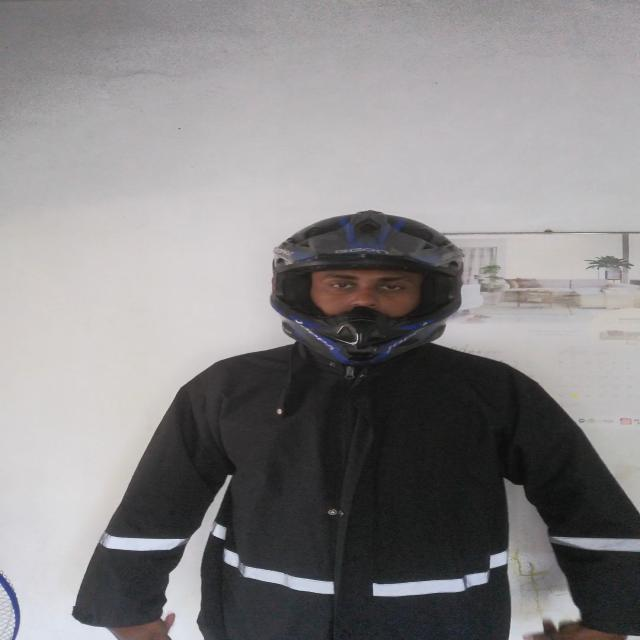Helmet_Wearer: (230, 201, 484, 372)
Jacket_Wearer: (66, 311, 640, 640)
